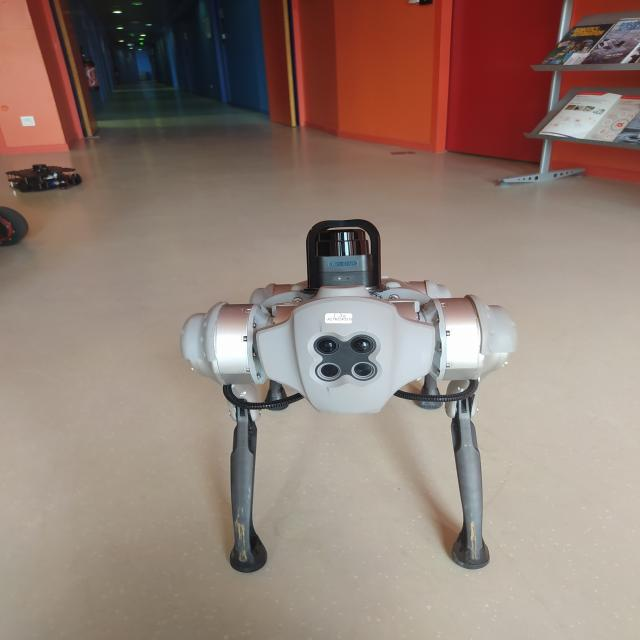unitree-go1-robot: (170, 206, 532, 587)
